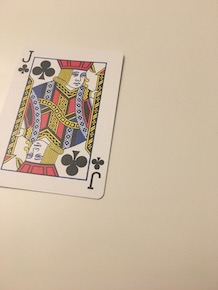JackOfClubs: (1, 37, 129, 201)
